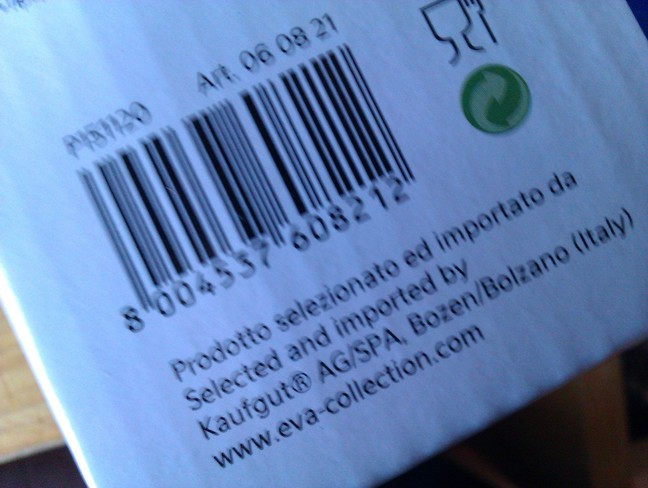barcode: (57, 37, 435, 336)
